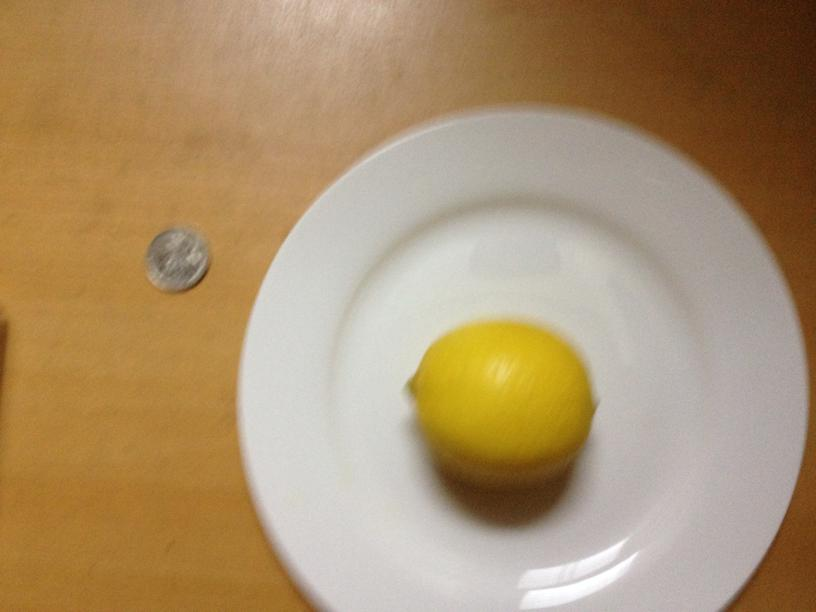coin: (144, 225, 210, 292)
lemon: (416, 320, 590, 485)
